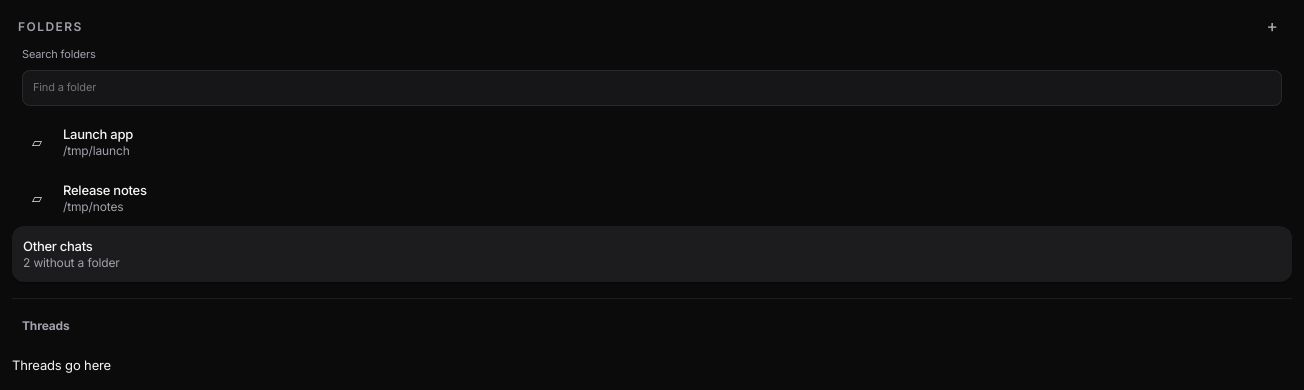
Test: matches a folder path and shows empty-match copy when nothing remains
The width and height of the screenshot is (1304, 390).
In the field labelled "Search folders": (652, 88) 22,70 -> 1282,106, type "notes"
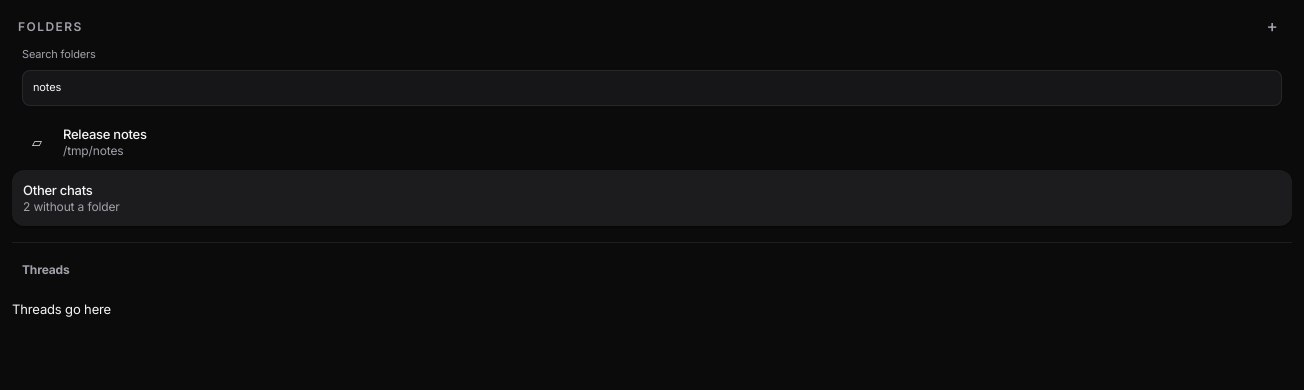
Check: the button titled "Release notes" is shown, box 12,114 -> 1292,170
Check: the button titled "Launch app" is gone
Replace the text in the field labelled "Search folders" with "xyzzy": (652, 88) 22,70 -> 1282,106
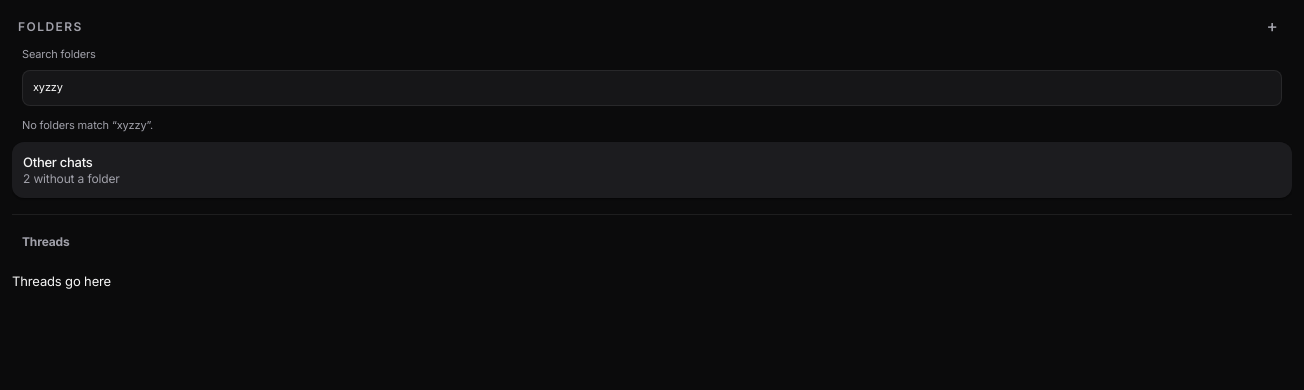
Check: the button titled "Other chats" is shown, box 12,142 -> 1292,198
Check: the text "No folders match “xyzzy”." is shown, box 22,118 -> 153,132
Check: the button titled "Release notes" is gone
